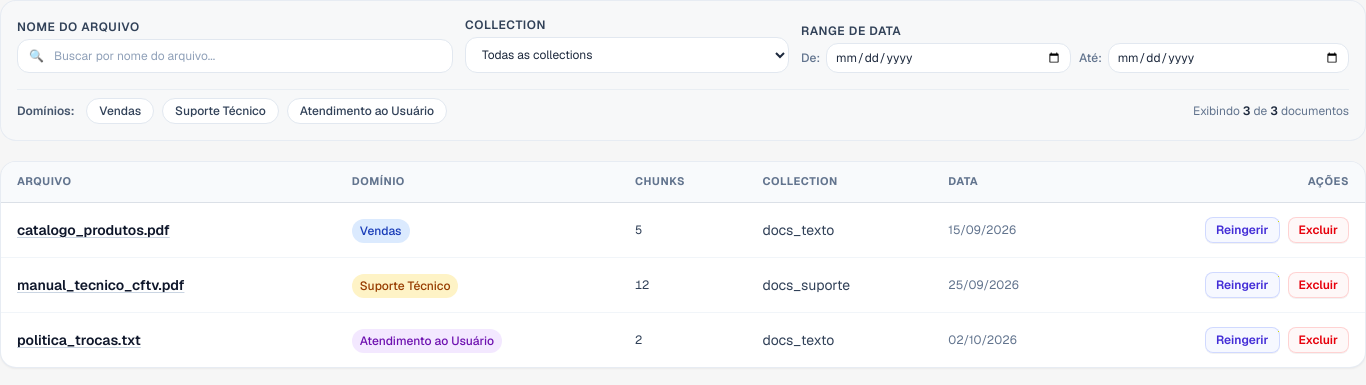
Test: DocumentsTable › Filtros de documentos › filtra por collection
The image size is (1366, 385).
Select "docs_suporte (Ativa)" in the dropdown labelled "Collection". click: (627, 55)
box: [465,37,789,73]
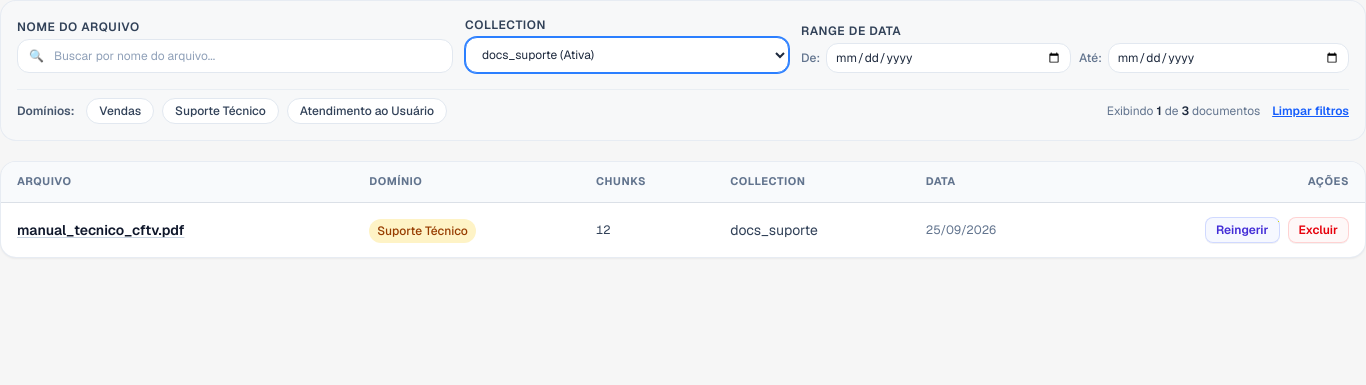
Check: the text "manual_tecnico_cftv.pdf" is shown, box [17,220,184,240]
Check: the button "catalogo_produtos.pdf" is gone
Check: the button "politica_trocas.txt" is gone
